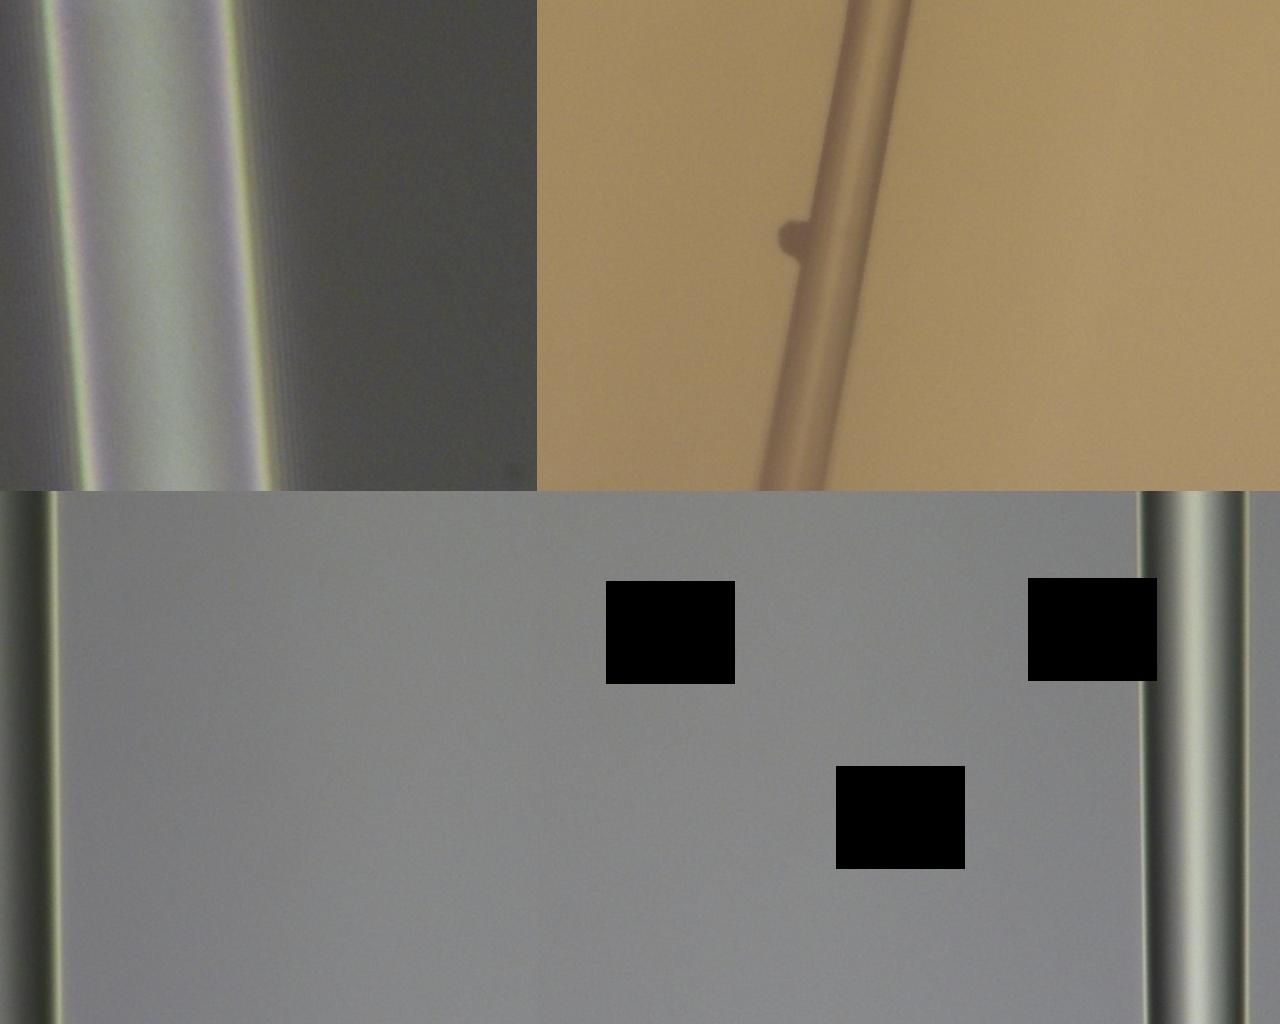fiber: (0, 592, 768, 716), (226, 716, 474, 1024), (768, 716, 1186, 844)
